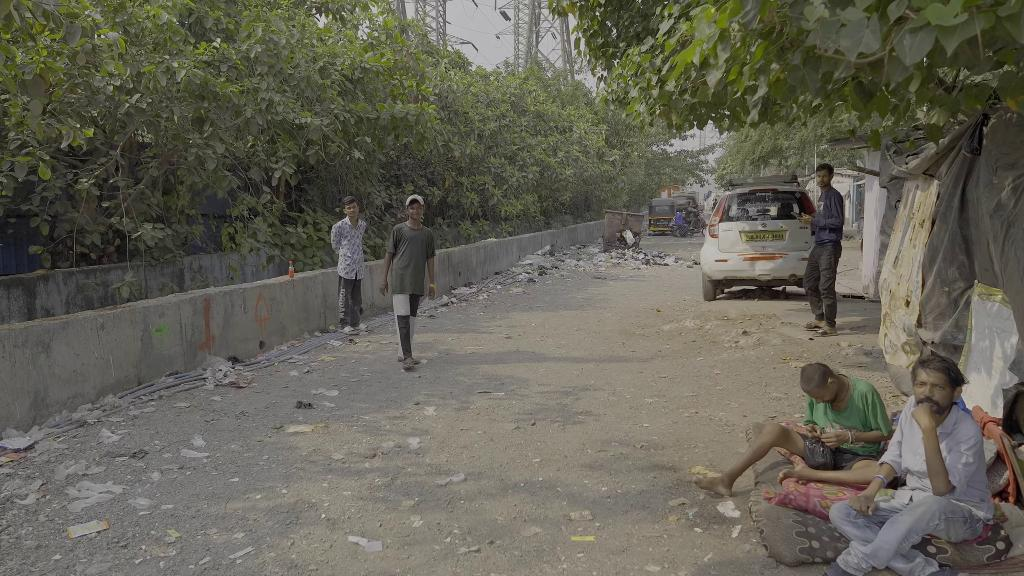dustbin: (600, 208, 648, 258)
garbage: (57, 481, 131, 512), (198, 356, 242, 387), (66, 516, 115, 539), (2, 433, 36, 452), (98, 427, 122, 445)
